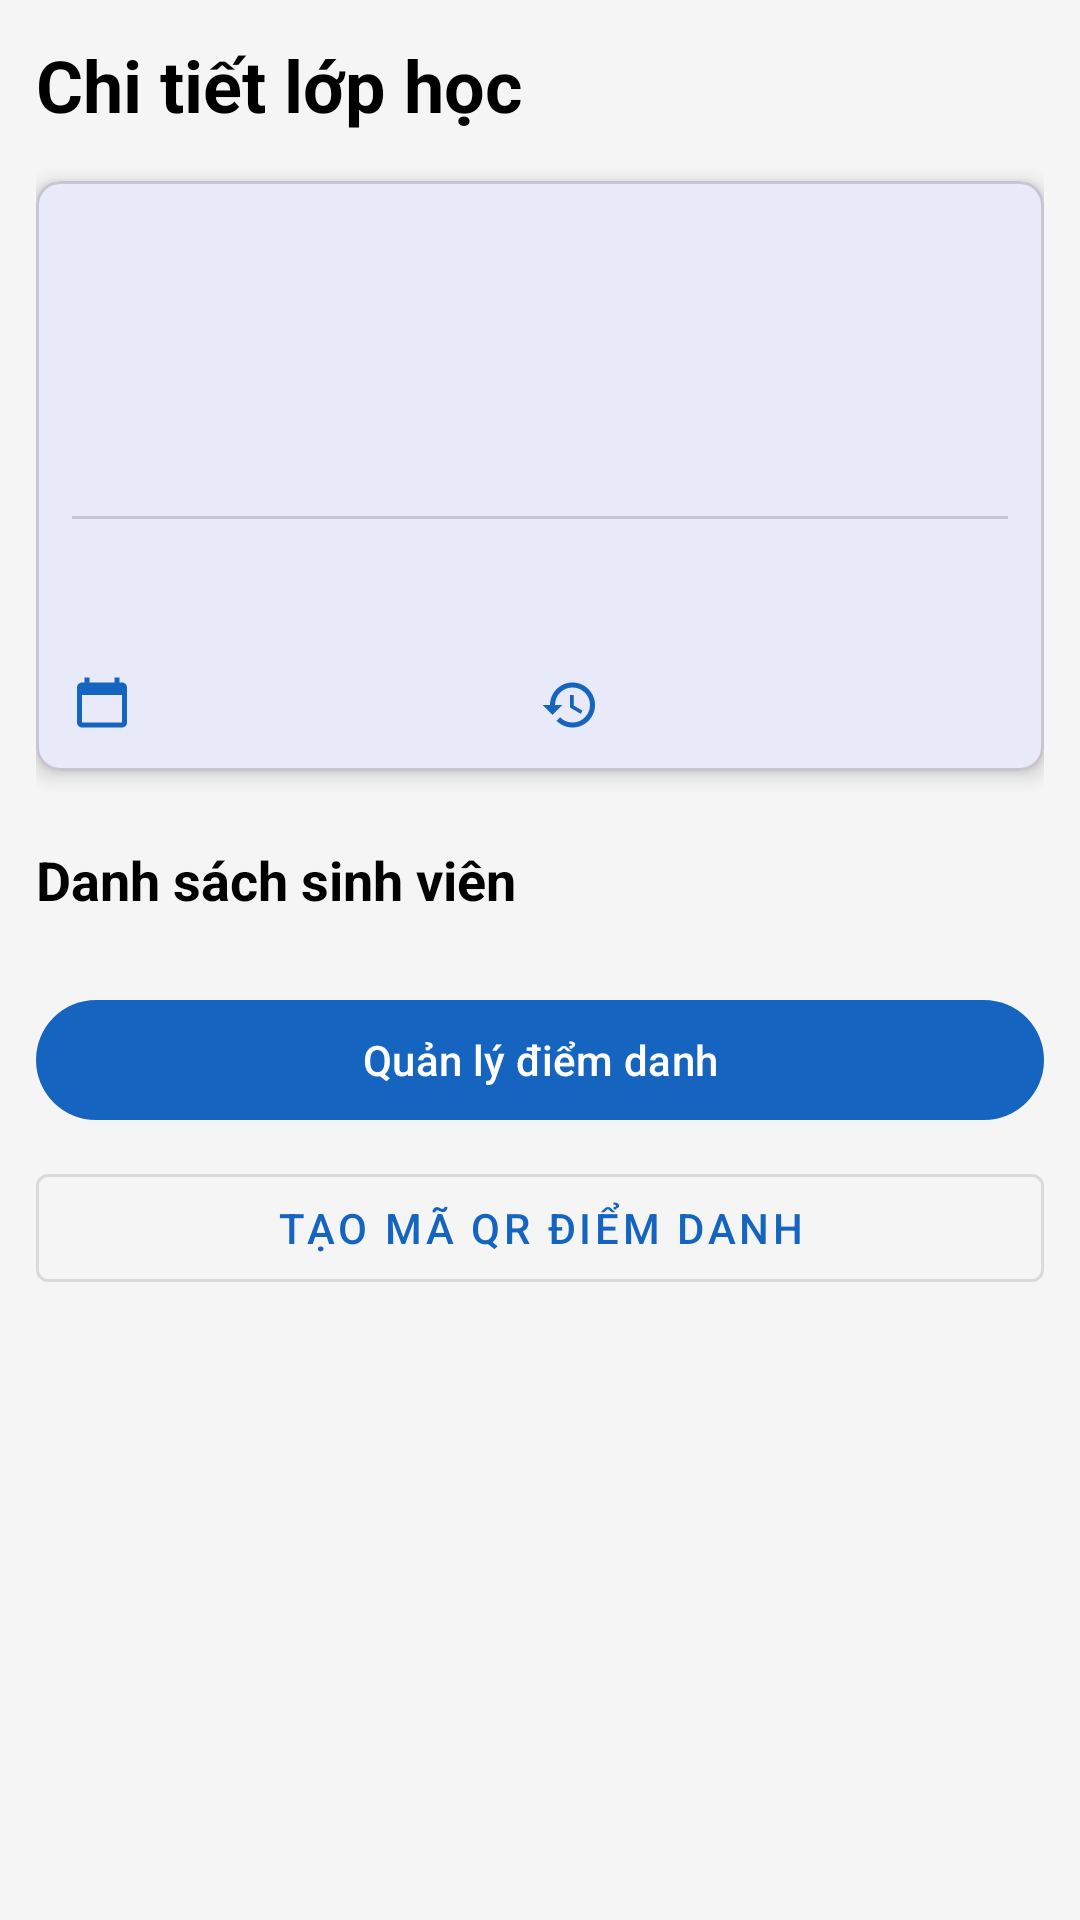

Locate icon controls on the screen. Image size 1080x1920, boxes as (x1, y1, x2, y2).
calendar today: (77, 677, 127, 728)
history: (543, 682, 595, 728)
